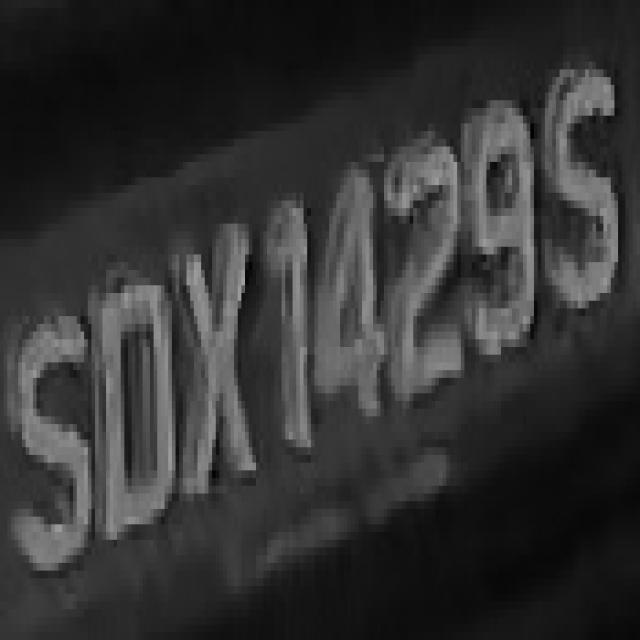1: (267, 185, 322, 486)
2: (376, 116, 464, 424)
4: (314, 154, 392, 463)
9: (457, 85, 549, 401)
D: (80, 262, 186, 548)
S: (534, 46, 636, 347), (14, 293, 92, 601)
X: (180, 231, 264, 532)
